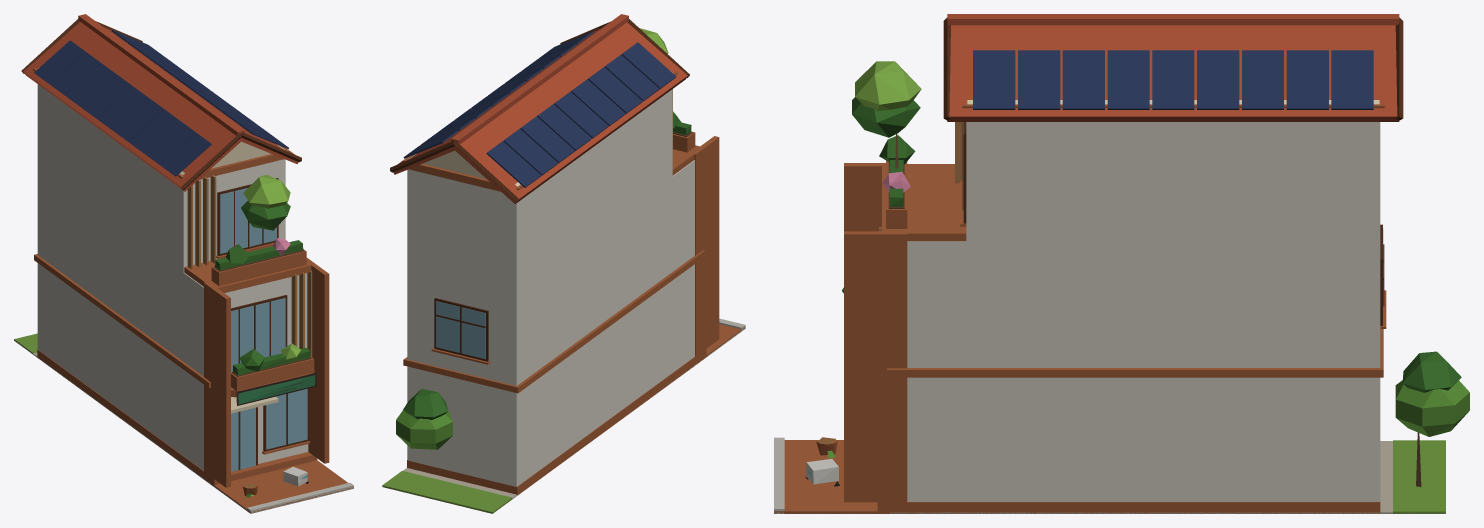
Rendered from bay1_mid2.glb.
The picture shows the model from 3 angles, left to right: view 1: azimuth 30°, elevation 25°; view 2: azimuth 150°, elevation 25°; view 3: azimuth 270°, elevation 25°; orthographic projection. The views are drawn at different scales.
Parts seen in each view (by area): view 1: body; view 2: body; view 3: body.
Part boxes in pixels (box(x1,y1,x2,y2)): body: box(14, 14, 353, 513); body: box(382, 14, 745, 513); body: box(774, 14, 1469, 513).
Size of the model in its own units: 4.7 by 12.44 by 16.47.
